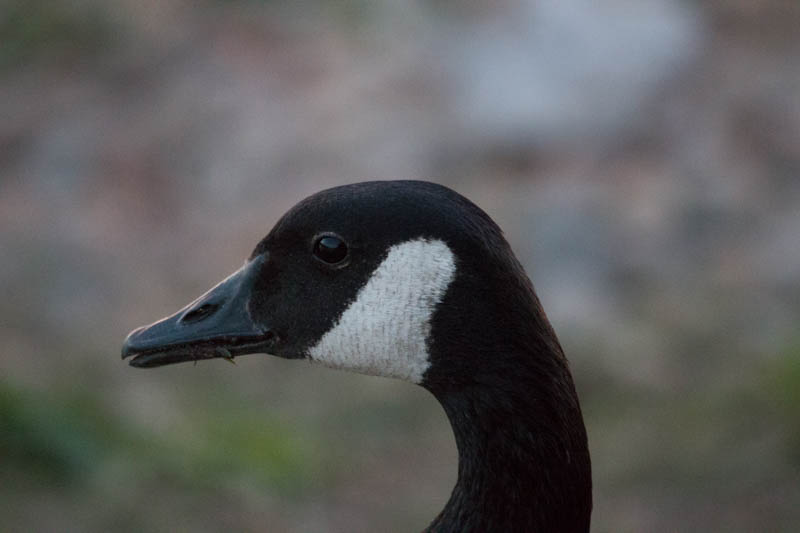goose-head: (121, 179, 541, 388)
